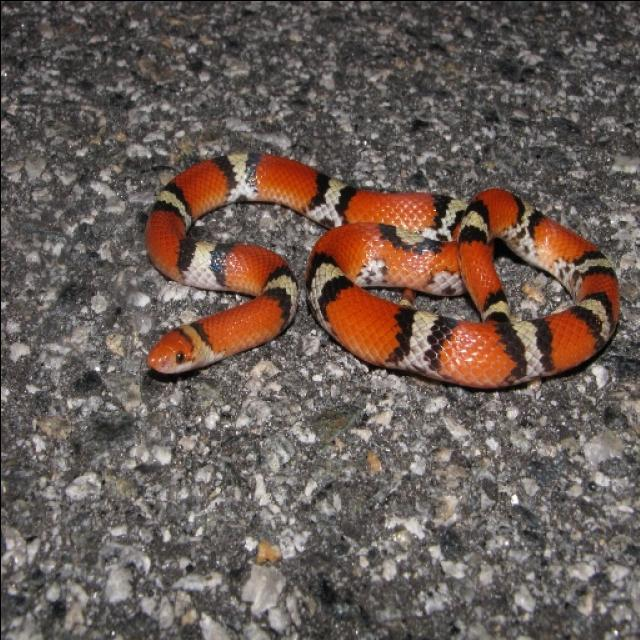snake: (104, 141, 631, 415)
